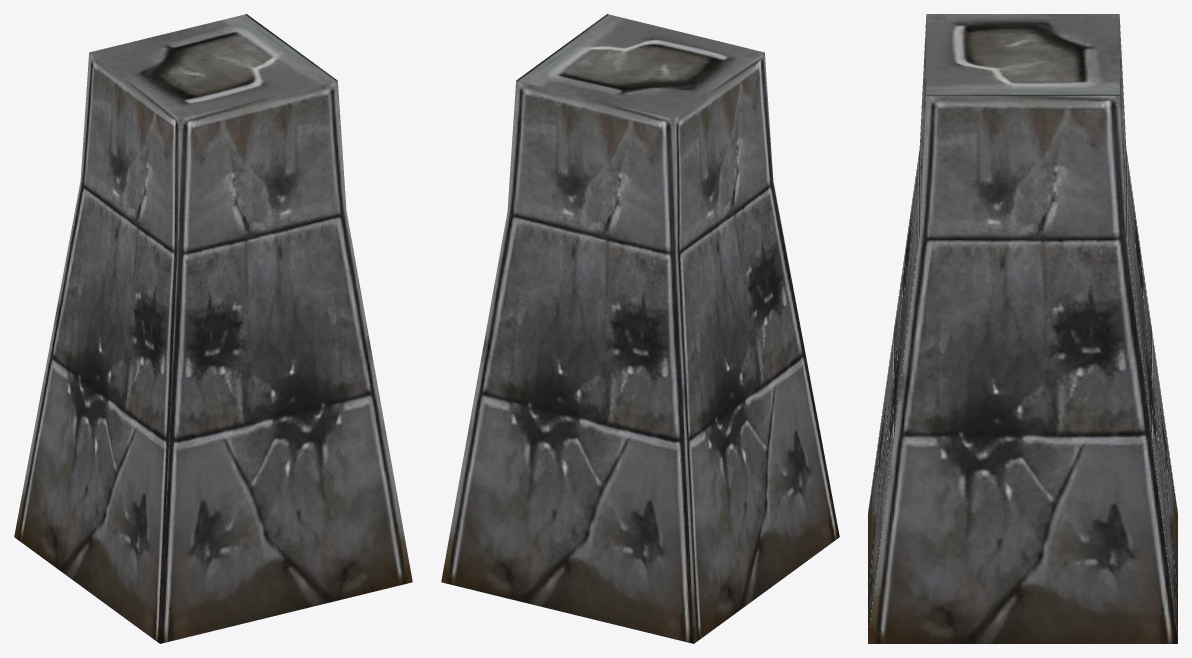
Rendered from s_mediumpost_dam_hdtex.glb.
3 renders of one model, left to right at view 1: azimuth 30°, elevation 25°; view 2: azimuth 150°, elevation 25°; view 3: azimuth 270°, elevation 25°, orthographic. The views are drawn at different scales.
Visible parts, largest first — view 1: S_MediumWallDAM; view 2: S_MediumWallDAM; view 3: S_MediumWallDAM.
Boxes of the visible parts, x1,y1,x2,y2 form: S_MediumWallDAM: (14,14,412,643); S_MediumWallDAM: (441,14,839,643); S_MediumWallDAM: (868,14,1177,643).
Size of the model in its own units: 6 by 11.19 by 6.
Materials: 1 (1 with a texture image).
